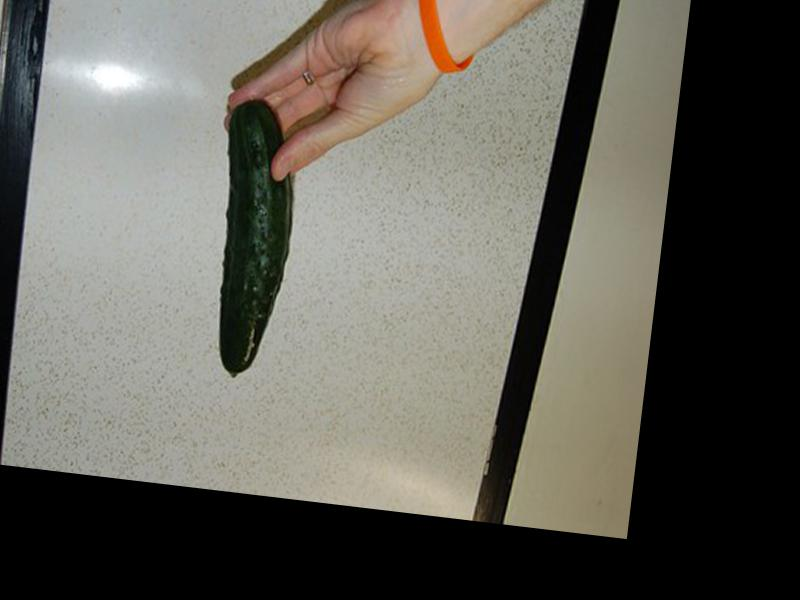Cucumber: (198, 96, 303, 383)
